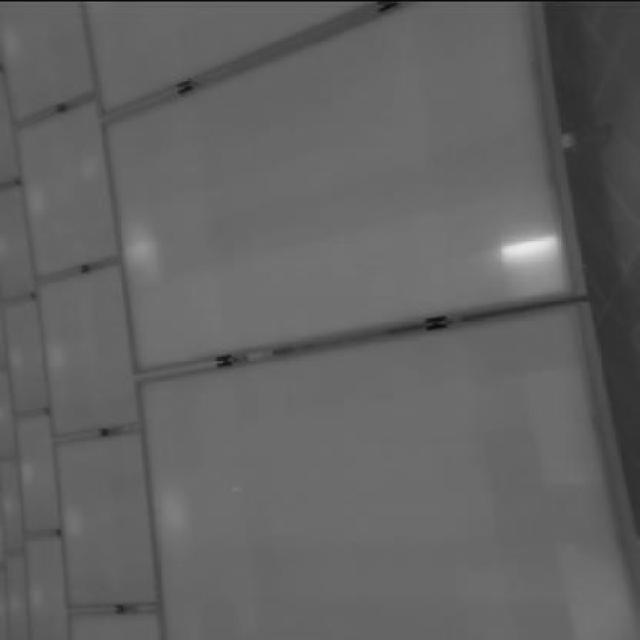hotspot: (494, 232, 572, 299)
